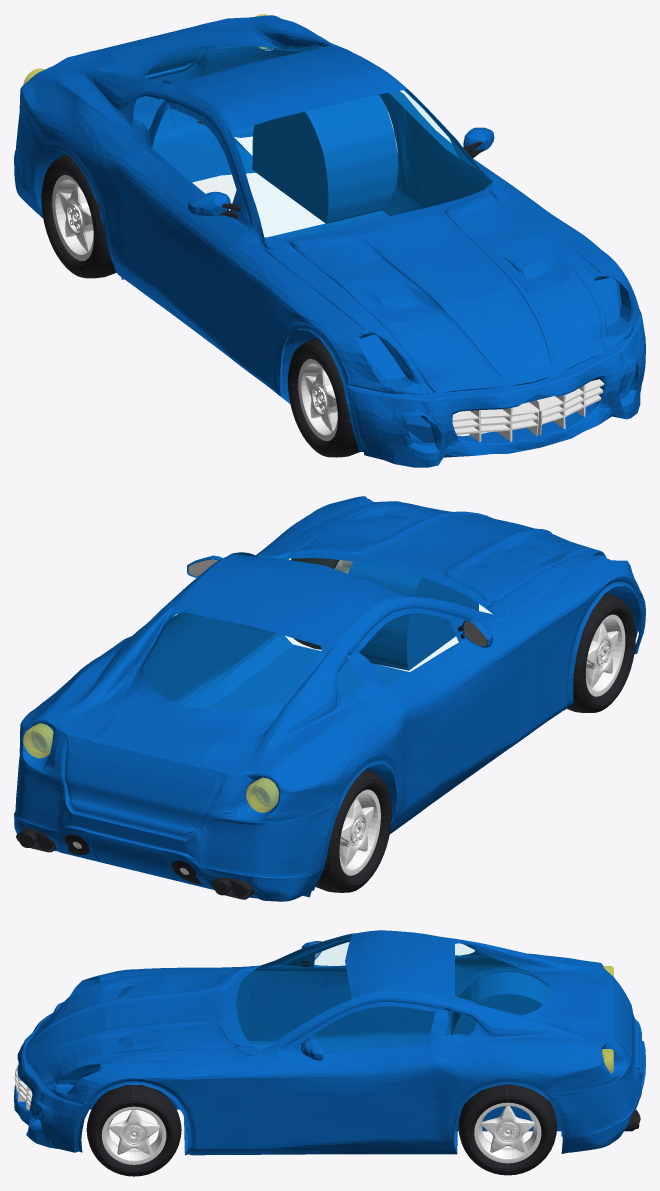
The model's file is Ferrari-F599.glb.
3 views of the same model, one above another, from view 1: azimuth 30°, elevation 25°; view 2: azimuth 150°, elevation 25°; view 3: azimuth 270°, elevation 25° (orthographic). The views are drawn at different scales.
Parts seen in each view (by area): view 1: Chasis, Cubre_llantaT, Parrilla, LLanta.002, LLanta.003, Rin.002, Cubre_rin.002, Rin.003, Cubre_rin.003, Retro3, Cubre_llantaD.001, Retro2 (+1 smaller); view 2: Chasis, Cubre_llantaD, LLanta.002, LLanta.003, Rin.002, Cubre_rin.002, Rin.003, Cubre_rin.003, Calavera1, Calavera, Retro3, Escape (+2 smaller); view 3: Chasis, LLanta, LLanta.001, Cubre_llantaT.001, Cubre_rin.001, Cubre_rin, Rin.001, Rin, Cubre_llantaT, Retro2, Parrilla.
Part boxes in pixels (x1,y1,x2,y2): Chasis: (14, 15, 645, 467); Cubre_llantaT: (252, 94, 398, 223); Parrilla: (452, 379, 604, 441); LLanta.002: (41, 154, 116, 278); LLanta.003: (287, 337, 360, 457); Rin.002: (59, 184, 93, 251); Cubre_rin.002: (52, 175, 93, 260); Rin.003: (305, 368, 337, 432); Cubre_rin.003: (298, 359, 337, 440); Retro3: (188, 191, 241, 218); Cubre_llantaD.001: (282, 330, 316, 398); Retro2: (463, 127, 494, 158); Chasis: (14, 496, 645, 901); Cubre_llantaD: (348, 561, 478, 670); LLanta.002: (315, 769, 391, 892); LLanta.003: (567, 592, 635, 712); Rin.002: (339, 798, 373, 866); Cubre_rin.002: (339, 789, 380, 875); Rin.003: (586, 623, 618, 688); Cubre_rin.003: (585, 614, 625, 696); Calavera1: (246, 777, 278, 812); Calavera: (23, 723, 53, 758); Retro3: (457, 618, 492, 647); Escape: (211, 872, 260, 899); Chasis: (14, 930, 645, 1155); LLanta: (86, 1084, 181, 1176); LLanta.001: (458, 1084, 557, 1175); Cubre_llantaT.001: (451, 971, 550, 1035); Cubre_rin.001: (474, 1102, 541, 1163); Cubre_rin: (101, 1106, 166, 1164); Rin.001: (481, 1106, 534, 1152); Rin: (108, 1110, 160, 1154); Cubre_llantaT: (454, 1103, 562, 1144); Retro2: (301, 1038, 323, 1060); Parrilla: (14, 1062, 32, 1109).
Bounding box in the file's own units: 0.0488 × 0.0334 × 0.115.
6 materials, 1 textured.
